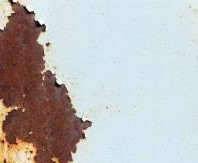Corrosion: (1, 1, 93, 163)
